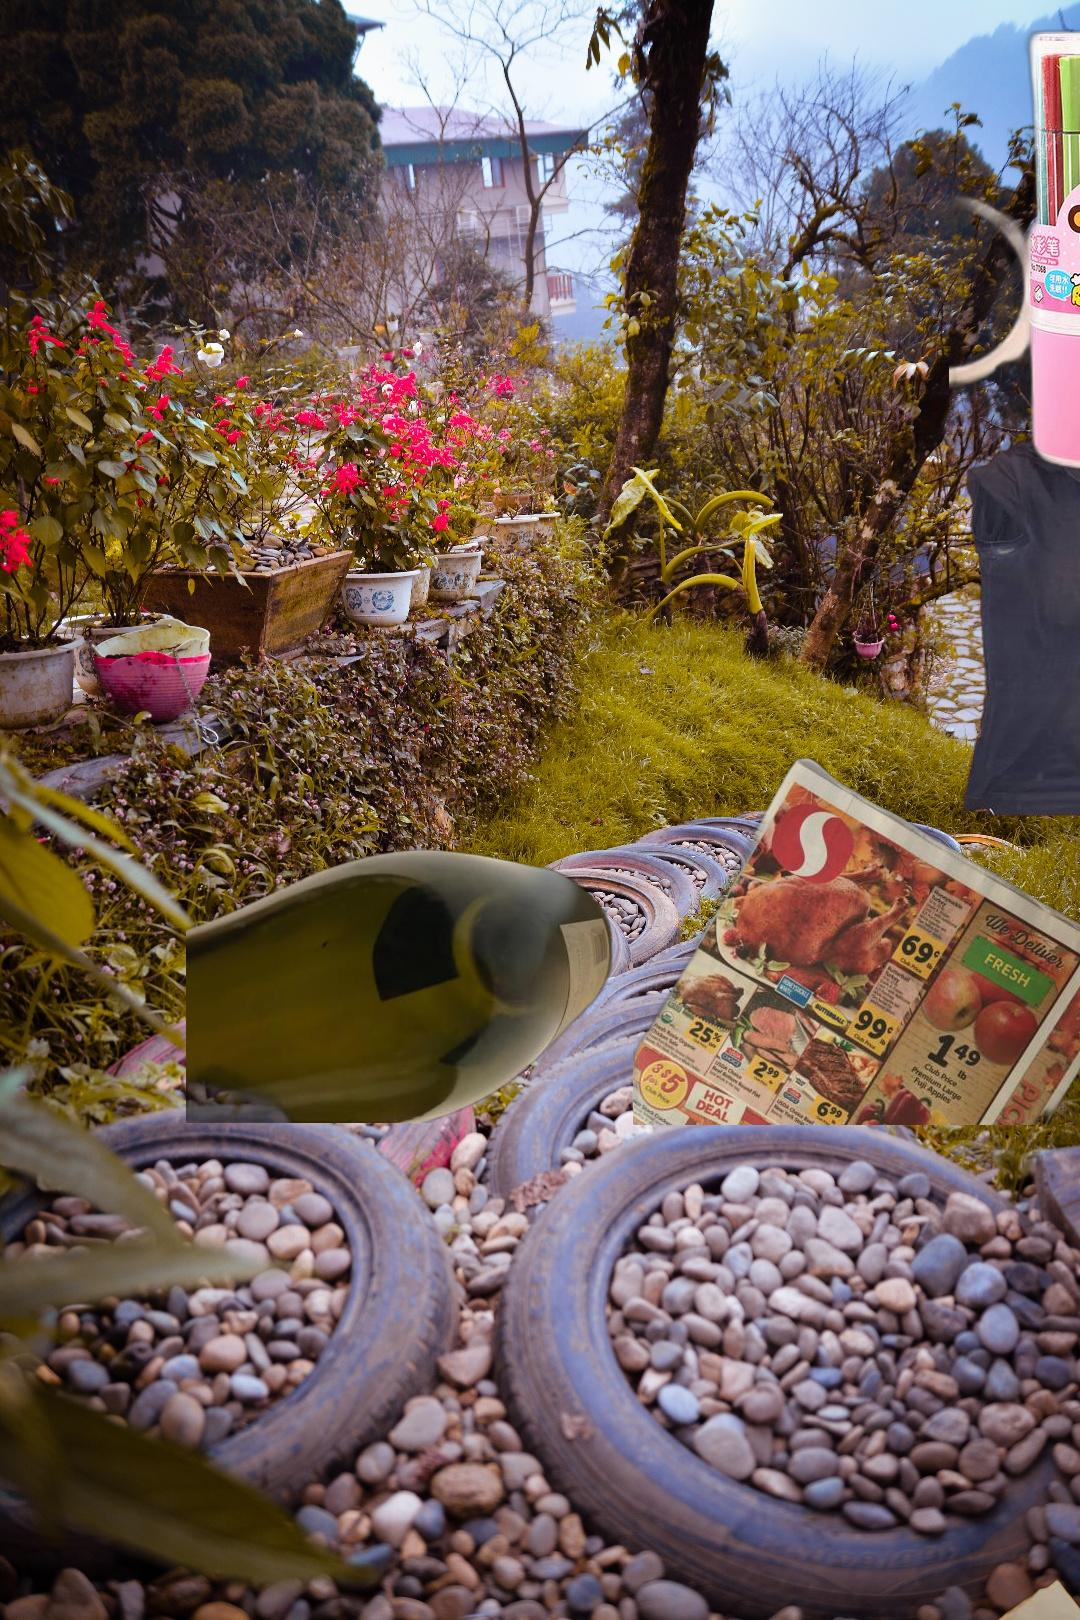clothes: (959, 410, 1080, 824)
glass: (186, 847, 617, 1123)
paper: (633, 755, 1080, 1125)
paper-bag: (973, 1575, 1080, 1620)
penholder: (949, 19, 1080, 477)
